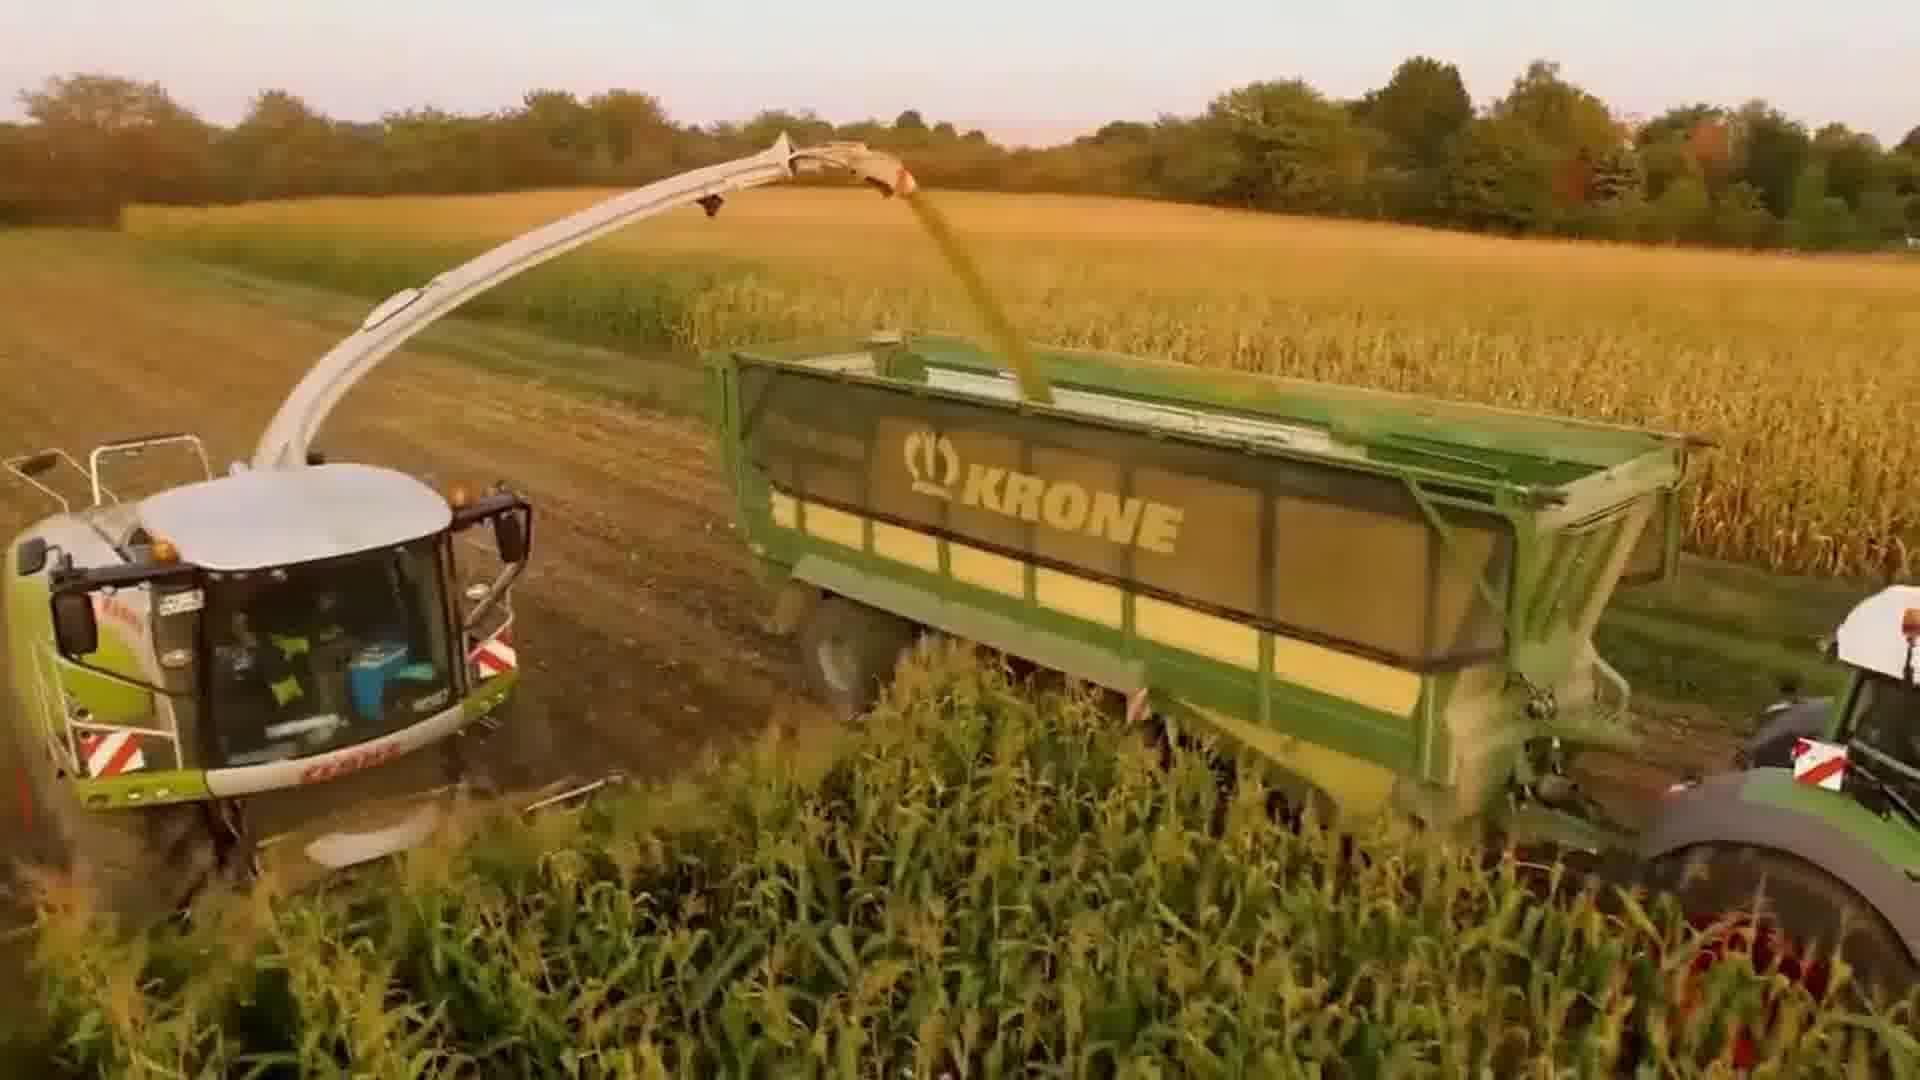combine harvester: (0, 119, 928, 955), (695, 302, 1712, 949)
tractor: (1619, 575, 1920, 1080)
